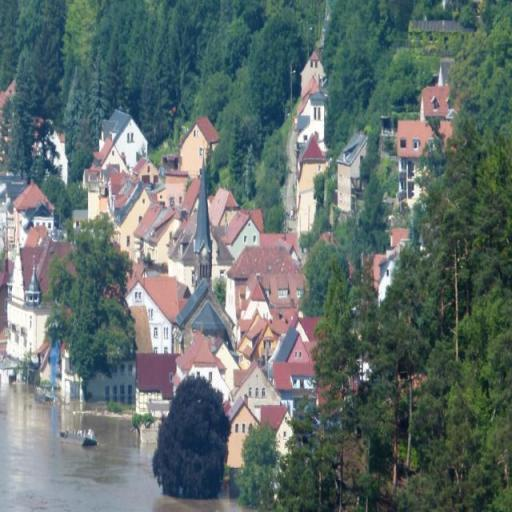flood: (0, 386, 254, 512)
house: (7, 246, 55, 364), (129, 268, 184, 358), (271, 318, 320, 399), (178, 279, 236, 336), (226, 239, 306, 277), (219, 396, 264, 461), (132, 351, 178, 413), (66, 363, 135, 401), (135, 200, 179, 258), (103, 110, 149, 160), (180, 117, 220, 172), (336, 132, 370, 196), (226, 212, 266, 258), (393, 116, 434, 160), (182, 339, 226, 380), (235, 360, 279, 400), (11, 179, 55, 217), (116, 182, 150, 230), (422, 82, 452, 130), (409, 18, 465, 42), (298, 49, 329, 91), (209, 188, 238, 230), (242, 280, 273, 318), (262, 404, 292, 442), (298, 133, 325, 172), (94, 140, 126, 172), (301, 92, 327, 130)
